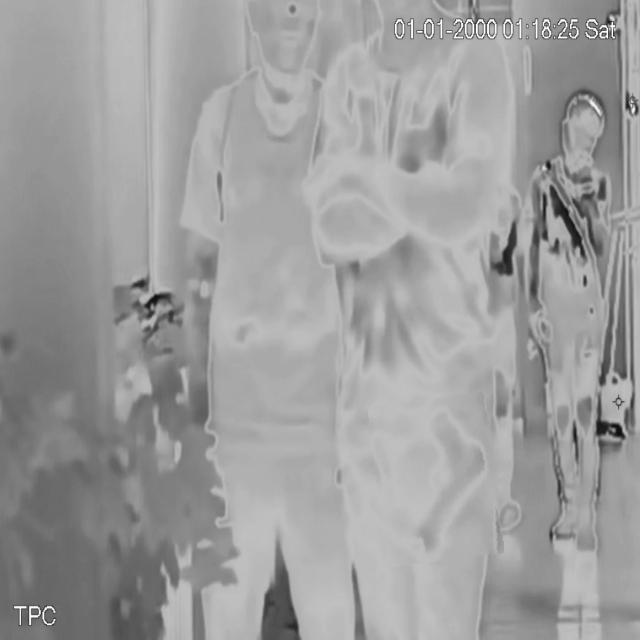Weapon: (372, 394, 499, 564)
